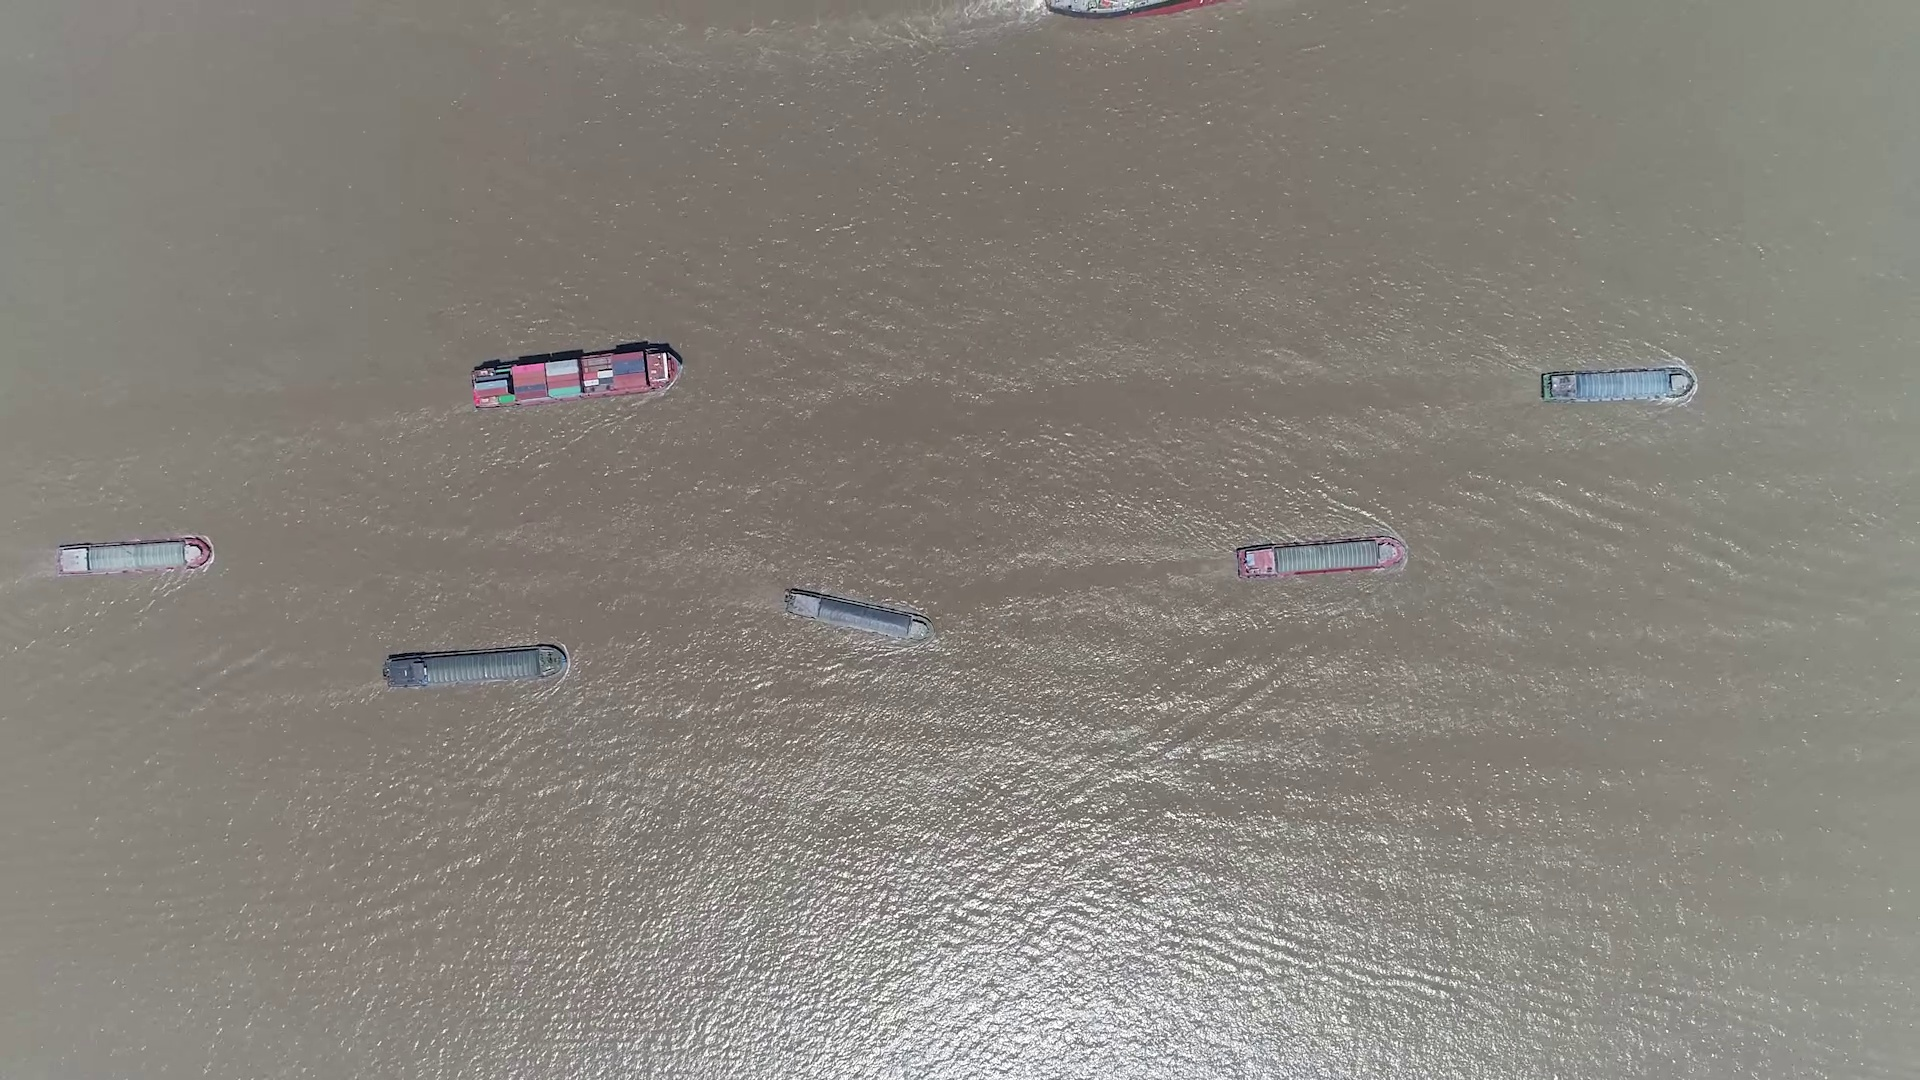ship: (469, 345, 680, 407), (782, 585, 934, 644), (382, 644, 567, 690), (1238, 537, 1408, 579), (55, 538, 214, 576), (1539, 367, 1695, 404), (1047, 0, 1221, 16)
